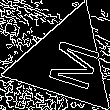M_W: (33, 32, 97, 91)
